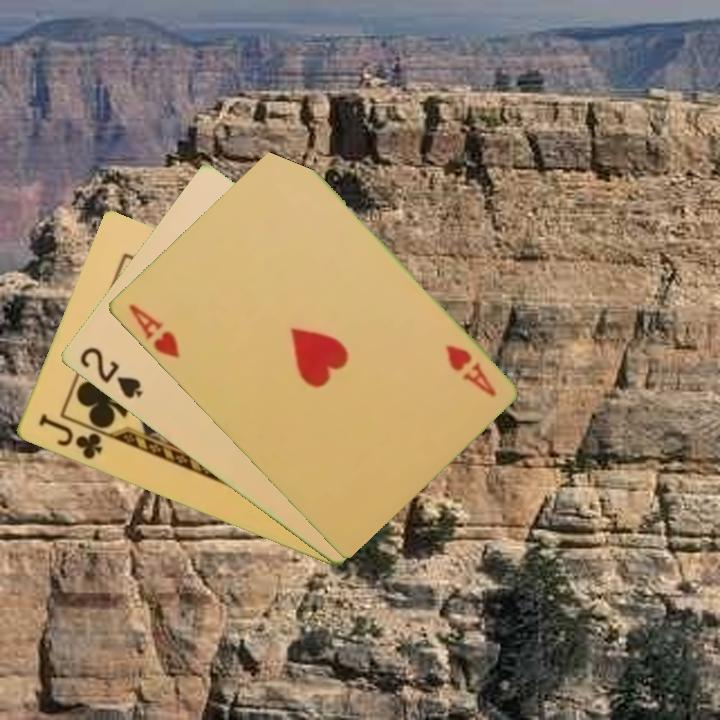2s: (75, 343, 145, 402)
Ah: (124, 300, 182, 362), (441, 341, 499, 400)
Jc: (34, 410, 105, 463)
